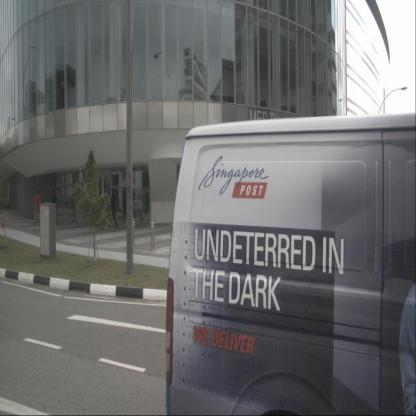human-pedestrian-adult: (31, 189, 44, 231), (108, 188, 118, 228), (48, 191, 57, 233)
movable_object-trafficcone: (0, 212, 6, 228)
vehicle-car: (164, 112, 416, 416)
